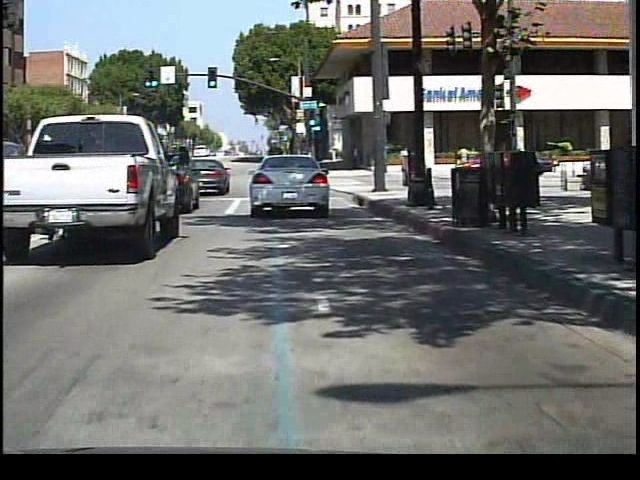person: (453, 139, 473, 175), (398, 142, 415, 177)
